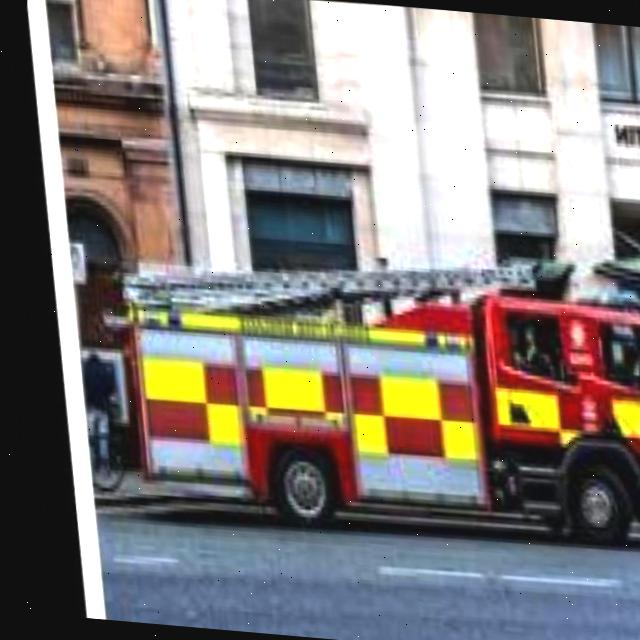emergency: (64, 222, 640, 556)
